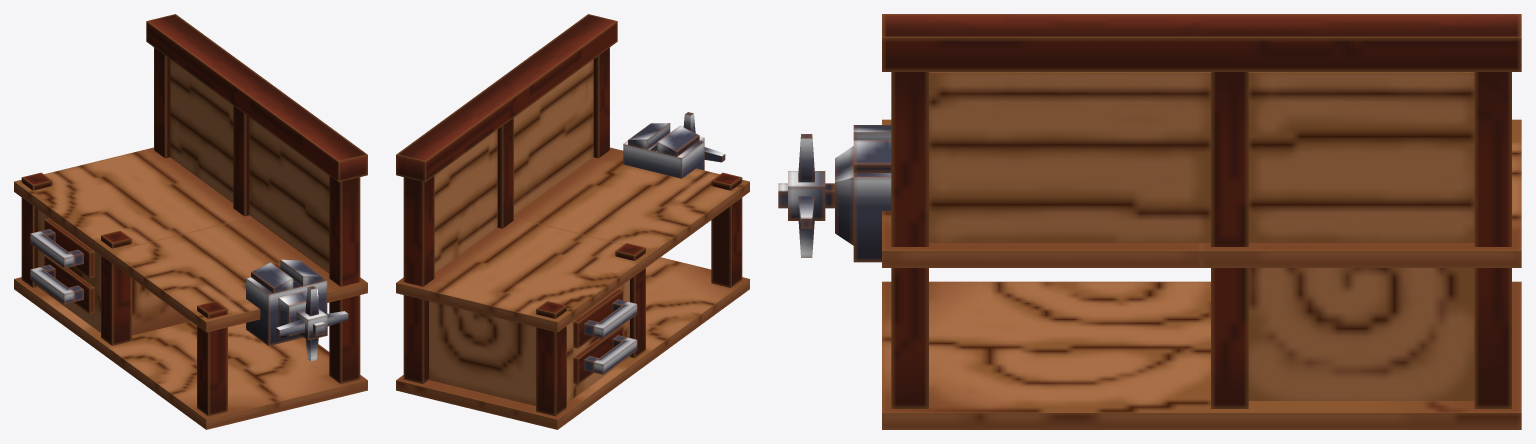
File: Workbench_Model.fbx
3 views of the same model, side by side, from view 1: azimuth 30°, elevation 25°; view 2: azimuth 150°, elevation 25°; view 3: azimuth 270°, elevation 25° (orthographic). The views are drawn at different scales.
Visible parts, largest first — view 1: Workbench; view 2: Workbench; view 3: Workbench.
Part boxes in pixels (bbox=[...]): Workbench: bbox=[14, 14, 367, 429]; Workbench: bbox=[396, 14, 749, 429]; Workbench: bbox=[778, 14, 1521, 429].
Bounding box in the file's own units: 225 × 288 × 494.
1 material, 1 textured.
